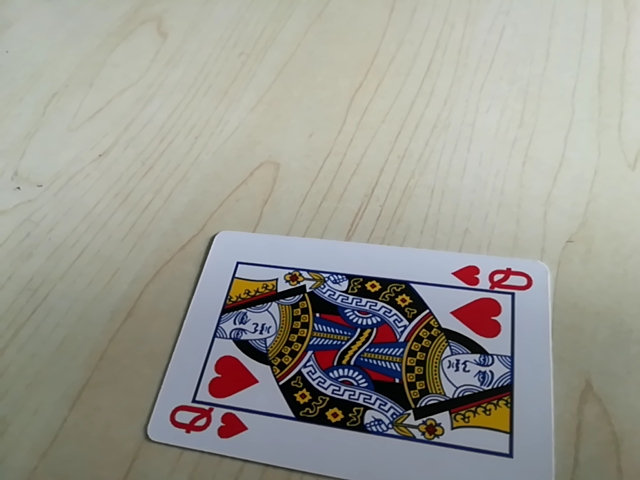hx q: (164, 403, 248, 444), (452, 260, 540, 296)
